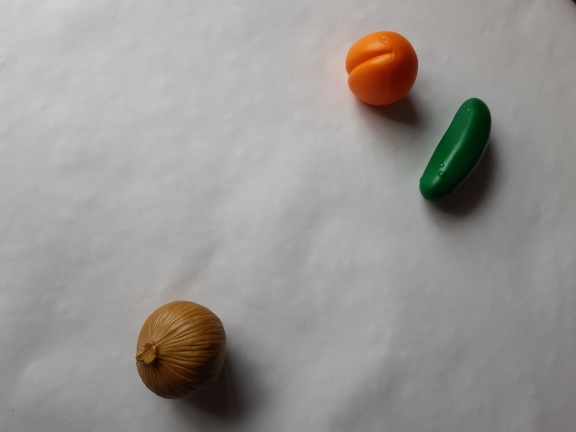apricot: (332, 28, 428, 109)
cucumber: (413, 92, 500, 205)
onion: (127, 297, 241, 405)
